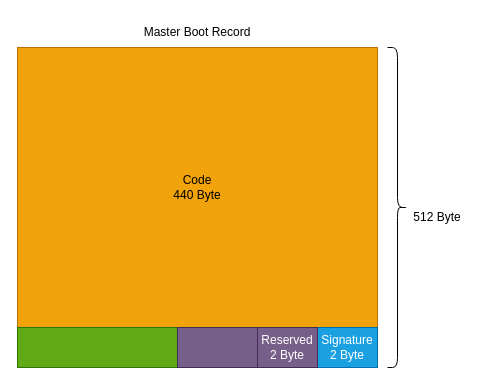
This 485x385 diagram has some shape labels left out. The shapes that lost their labels are listed below. From the top down, each one's box as (x1, y1, x2, y2) in pixels, then its label:
(16, 326, 178, 368): Partition Table 64 Byte
(176, 326, 258, 368): Disk ID 4 Byte
